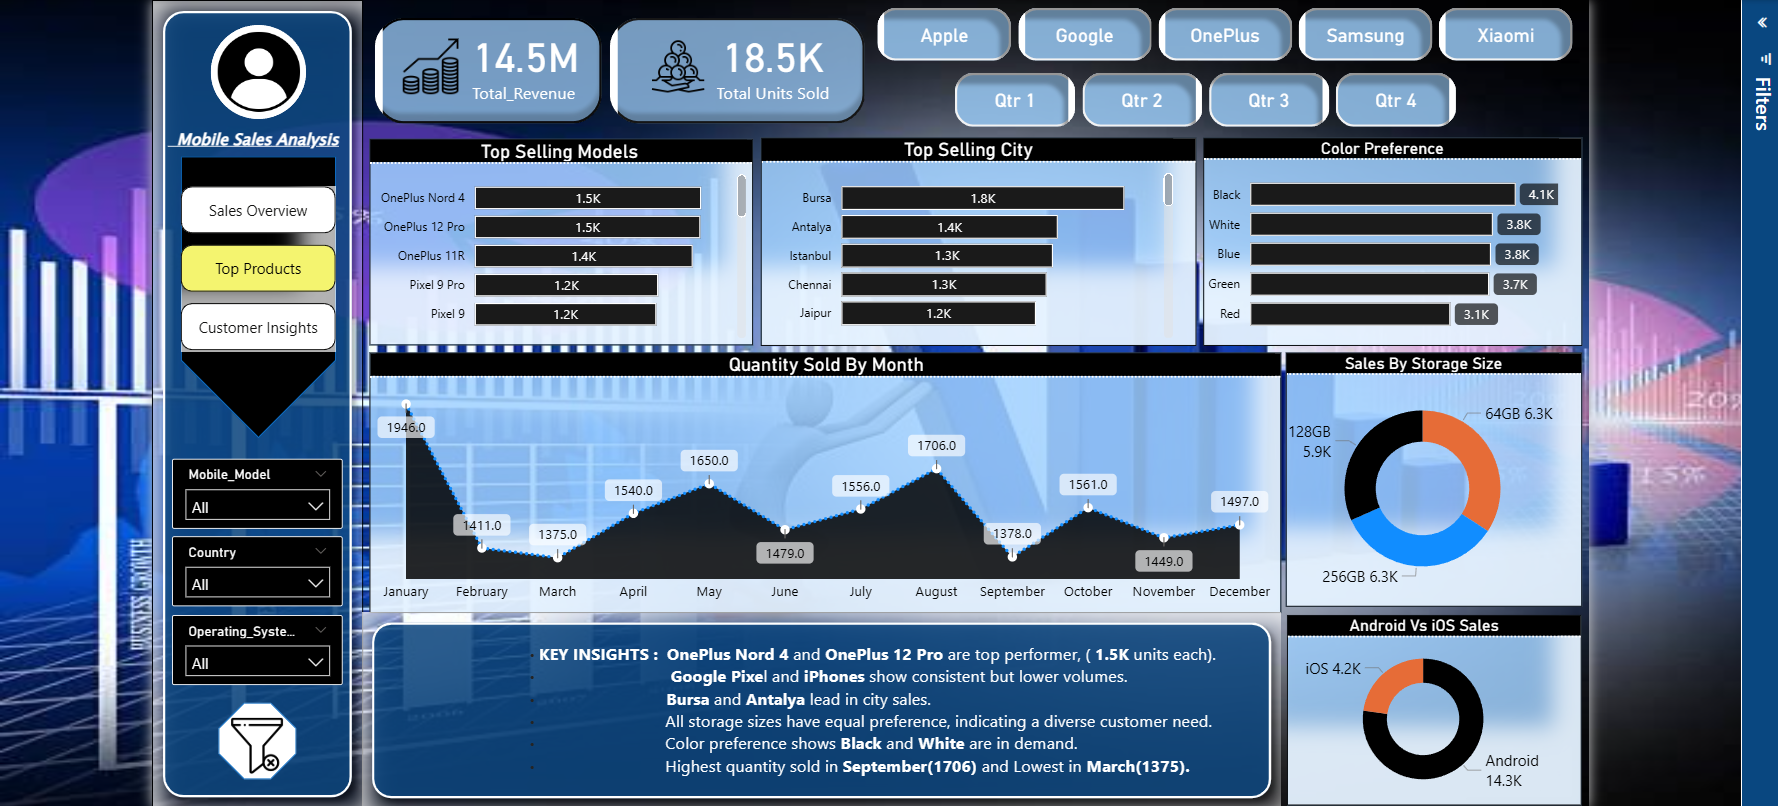

The dashboard page shown, as its layout file describes it:
{"tool":"powerbi","page":{"name":"Top Products","canvas":[1280,720],"ordinal":1},"visuals":[{"type":"barChart","title":"Color Preference","fields":{"Category":["Fact_Sales.Color"],"Y":["Sum(Fact_Sales.Units_Sold)"]},"box":[935.9,122.1,337.6,185.2],"z":0},{"type":"donutChart","title":"Android Vs iOS Sales","fields":{"Category":["Fact_Sales.Operating_System"],"Y":["Sum(Fact_Sales.Units_Sold)"]},"box":[1010.5,547.7,262.8,169.8],"z":1000},{"type":"areaChart","title":"Quantity Sold By Month","fields":{"Y":["Sum(Fact_Sales.Units_Sold)"],"Category":["Fact_Sales.Transaction_Date.Variation.Date Hierarchy.Month"]},"box":[193.5,314.2,812.4,231.9],"z":2000},{"type":"clusteredBarChart","title":"Top Selling Models","fields":{"Category":["Fact_Sales.Mobile_Model"],"Y":["Sum(Fact_Sales.Units_Sold)"]},"box":[193.5,123.5,341.7,183.9],"z":3000},{"type":"advancedSlicerVisual","fields":{"Values":["Fact_Sales.Transaction_Date.Variation.Date Hierarchy.Quarter"]},"box":[710.4,60.1,569.3,58.9],"z":4000},{"type":"advancedSlicerVisual","fields":{"Values":["Fact_Sales.Brand"]},"box":[640.8,2.7,632.6,57.6],"z":5000},{"type":"clusteredBarChart","title":"Top Selling City","fields":{"Category":["Fact_Sales.City"],"Y":["Sum(Fact_Sales.Units_Sold)"]},"box":[542,122.1,388.3,185.2],"z":6000},{"type":"cardVisual","fields":{"Data":["Sum(Fact_Sales.Total_Revenue)"]},"box":[193.5,11.3,212,104.3],"z":7000,"group":"g1"},{"type":"shape","box":[0,0,188.1,720.2],"z":7000},{"type":"cardVisual","fields":{"Data":["Sum(Fact_Sales.Units_Sold)"]},"box":[402.2,11.3,237.2,104.3],"z":8000,"group":"g1"},{"type":"group","id":"g1","title":"Group 1","box":[193.5,11.3,446,104.3],"z":8000},{"type":"shape","box":[52.3,22.1,84.9,83.7],"z":9000},{"type":"image","box":[51.2,20.9,88.4,86],"z":10000},{"type":"shape","box":[187.2,545.4,818.6,174.4],"z":11000},{"type":"slicer","fields":{"Values":["Dim_Products.Mobile_Model"]},"box":[17.4,408.1,152.3,62.8],"z":12000},{"type":"slicer","fields":{"Values":["Fact_Sales.Country"]},"box":[17.4,477.9,152.3,62.8],"z":13000},{"type":"slicer","fields":{"Values":["Dim_Products.Operating_System"]},"box":[17.4,547.7,152.3,62.8],"z":14000},{"type":"shape","box":[25.6,139.5,138.4,251.2],"z":15000},{"type":"textbox","box":[9.3,109.3,186,59.3],"z":16000},{"type":"shape","box":[59.3,625.6,69.8,68.6],"z":17000},{"type":"image","box":[62.8,634.9,61.6,59.3],"z":18000},{"type":"pageNavigator","box":[25.6,166.3,138.4,147.7],"z":19000},{"type":"donutChart","title":"Sales By Storage Size","fields":{"Y":["Sum(Fact_Sales.Units_Sold)"],"Category":["Fact_Sales.Storage_Size"]},"box":[1009.3,314,264,226.7],"z":20000},{"type":"textbox","box":[321.7,566.6,657.9,136.9],"z":21000}]}

Visuals, with their boxes on the page's 1280x720 design canvas (x1, y1, x2, y2). These are canvas units, not pixel positions in the 1778x806 screenshot, which may show the page scaled, cropped or inside an application window:
"Color Preference" barChart: box(936, 122, 1274, 307)
"Android Vs iOS Sales" donutChart: box(1010, 548, 1273, 718)
"Quantity Sold By Month" areaChart: box(194, 314, 1006, 546)
"Top Selling Models" clusteredBarChart: box(194, 124, 535, 307)
advancedSlicerVisual - Fact_Sales.Transaction_Date.Variation.Date Hierarchy.Quarter: box(710, 60, 1280, 119)
advancedSlicerVisual - Fact_Sales.Brand: box(641, 3, 1273, 60)
"Top Selling City" clusteredBarChart: box(542, 122, 930, 307)
cardVisual - Sum(Fact_Sales.Total_Revenue): box(194, 11, 406, 116)
shape: box(0, 0, 188, 720)
cardVisual - Sum(Fact_Sales.Units_Sold): box(402, 11, 639, 116)
"Group 1" group: box(194, 11, 640, 116)
shape: box(52, 22, 137, 106)
image: box(51, 21, 140, 107)
shape: box(187, 545, 1006, 720)
slicer - Dim_Products.Mobile_Model: box(17, 408, 170, 471)
slicer - Fact_Sales.Country: box(17, 478, 170, 541)
slicer - Dim_Products.Operating_System: box(17, 548, 170, 610)
shape: box(26, 140, 164, 391)
textbox: box(9, 109, 195, 169)
shape: box(59, 626, 129, 694)
image: box(63, 635, 124, 694)
pageNavigator: box(26, 166, 164, 314)
"Sales By Storage Size" donutChart: box(1009, 314, 1273, 541)
textbox: box(322, 567, 980, 704)
